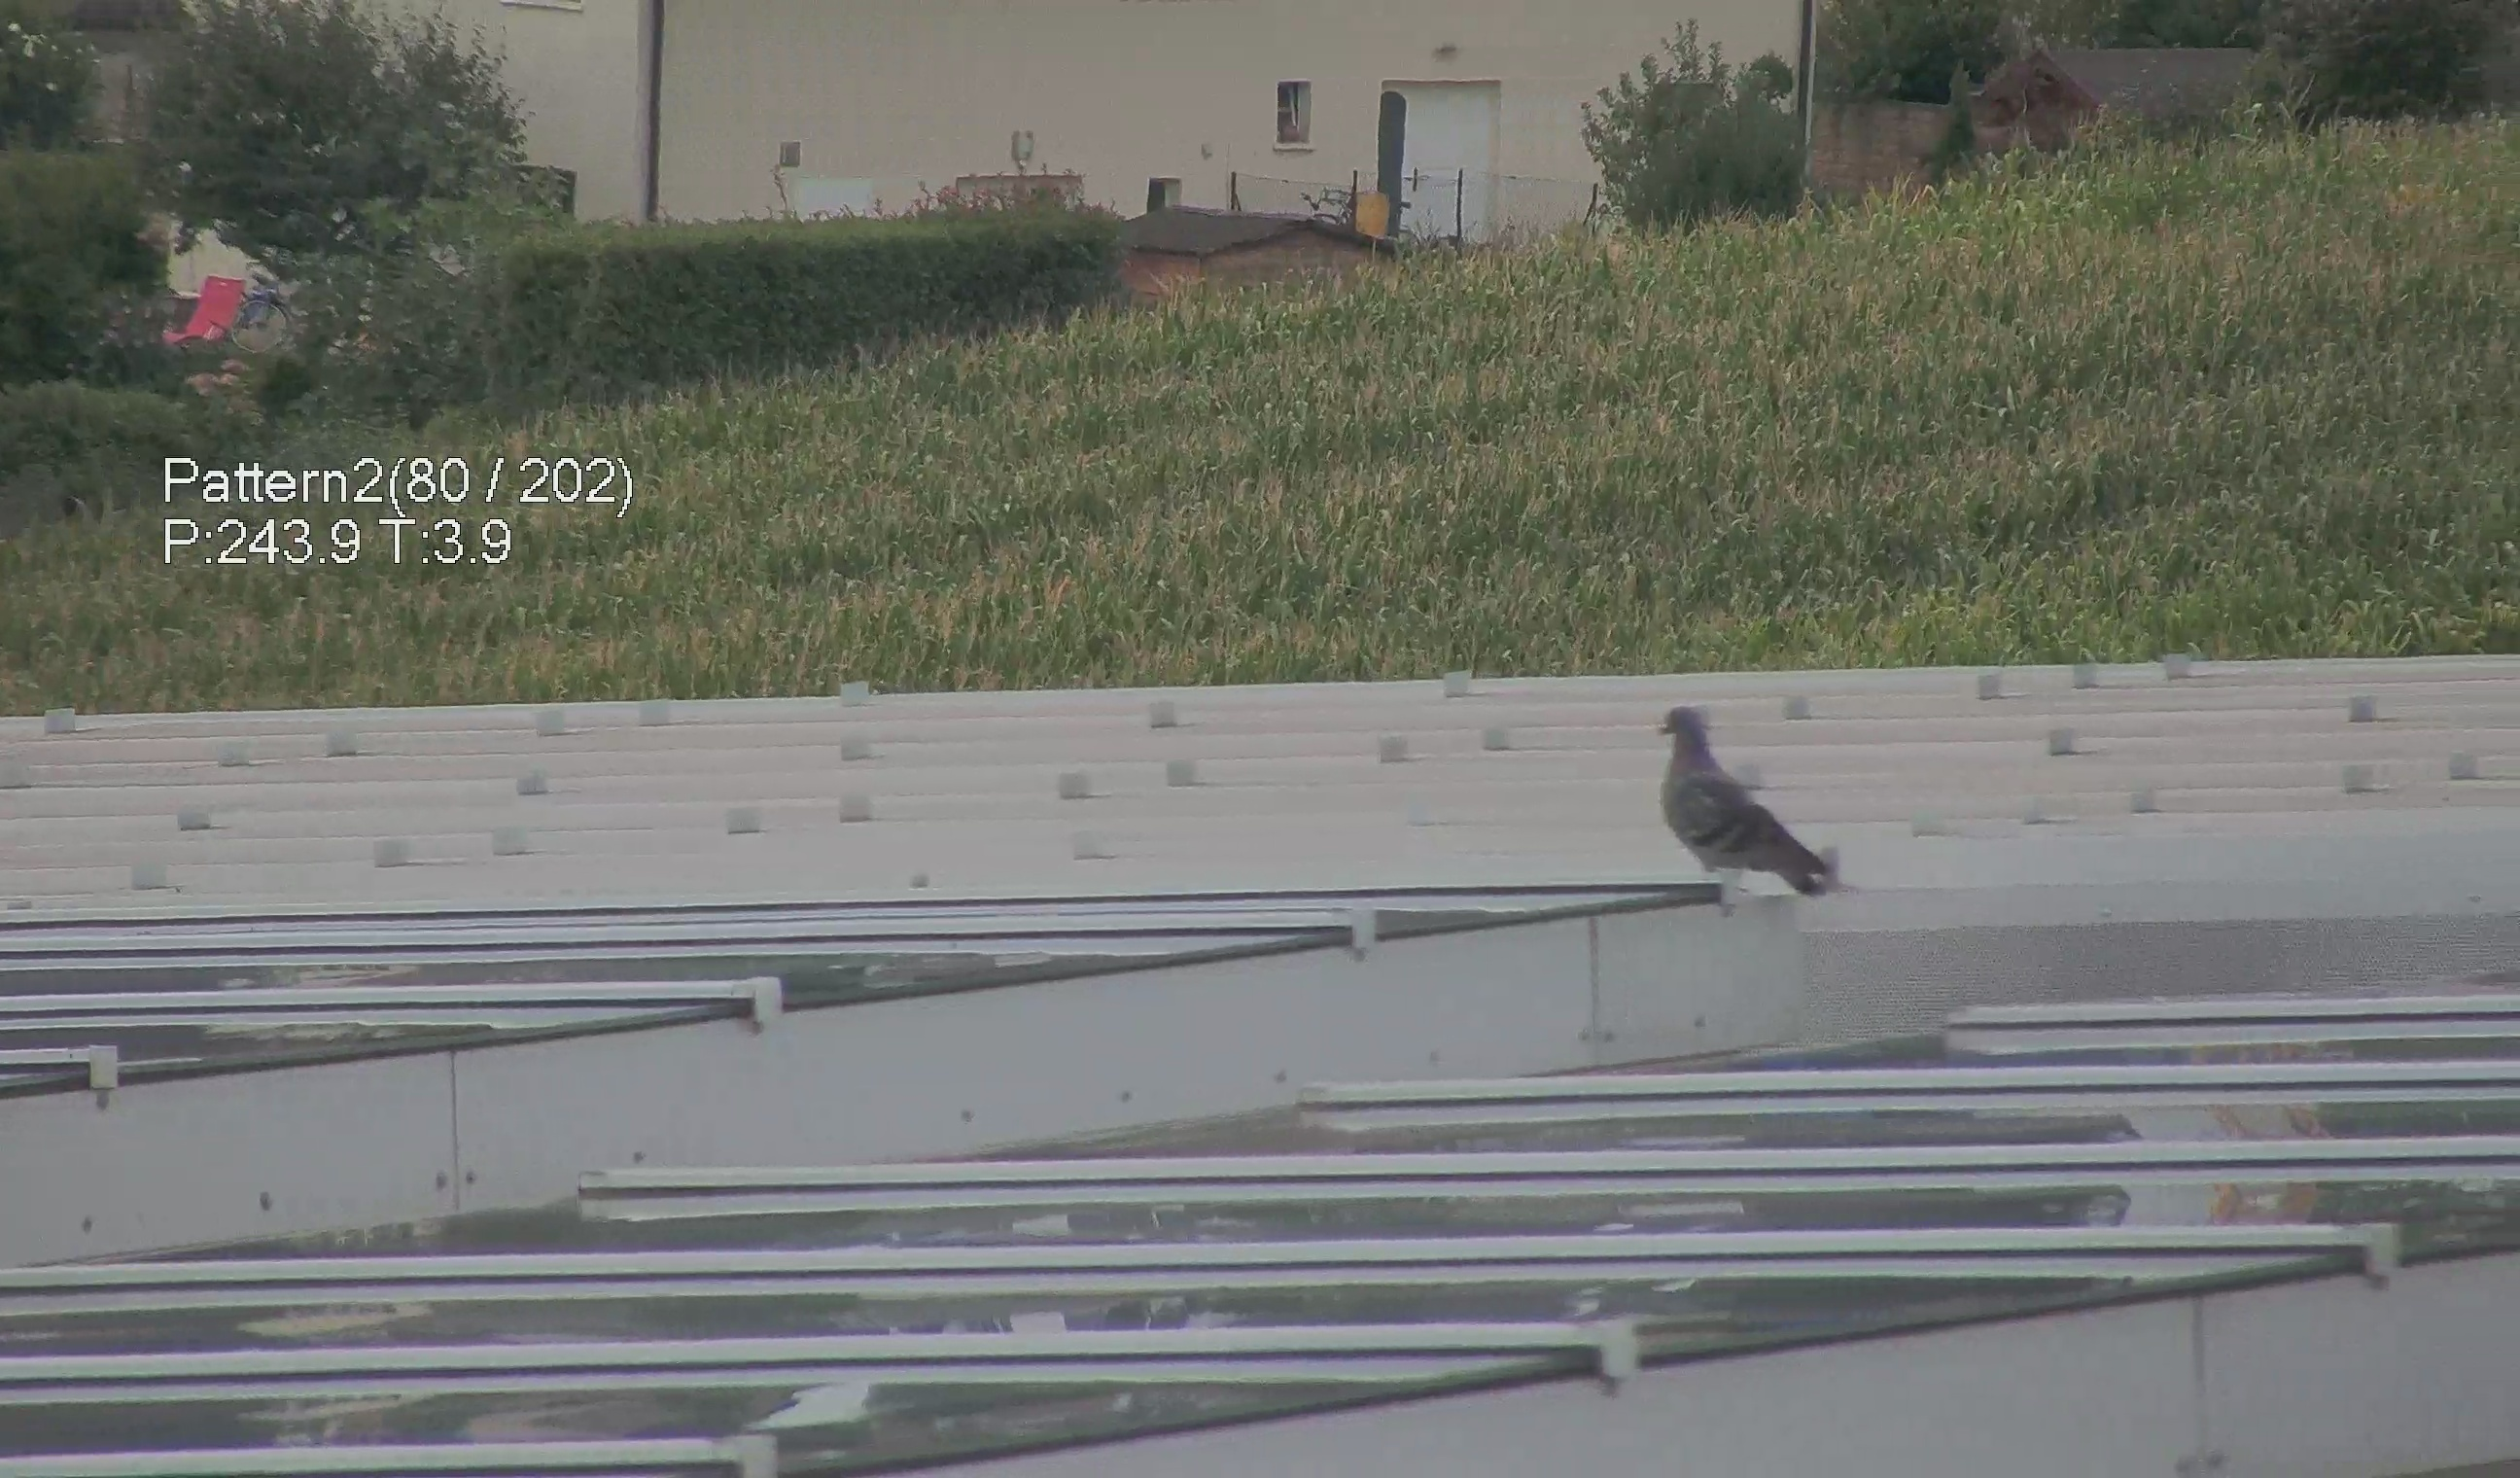Pigeon: (1644, 695, 1852, 918)
